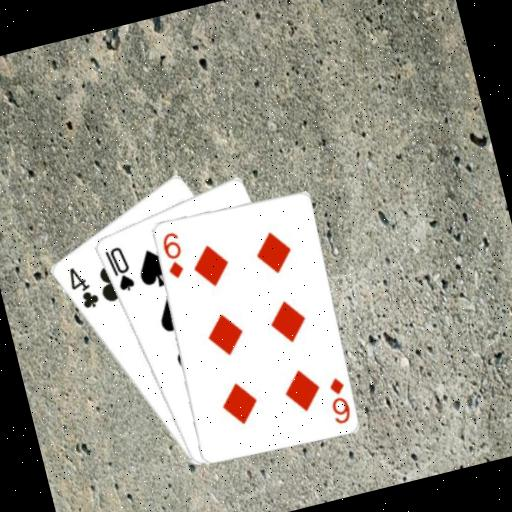10S: (100, 241, 138, 296)
4C: (62, 259, 102, 314)
6D: (321, 373, 354, 427), (157, 228, 189, 282)
